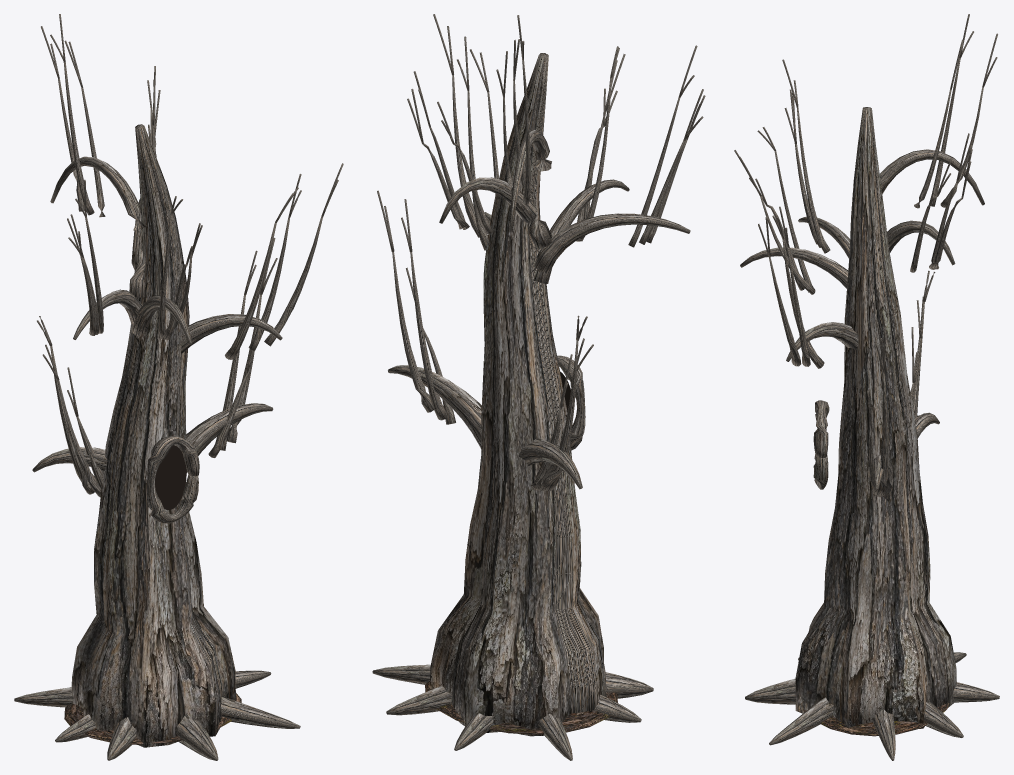
File: hollow-sentinel-v01.glb
The picture shows the model from 3 angles, left to right: view 1: azimuth 30°, elevation 25°; view 2: azimuth 150°, elevation 25°; view 3: azimuth 270°, elevation 25°; orthographic projection. The views are drawn at different scales.
Visible parts, largest first — view 1: deeply furrowed winding trunk, gnarled cavity rim, deep hollow cavity, massive gnarled bough.002, massive gnarled bough, massive gnarled bough.006, radiating buttress root.007, radiating buttress root.006, massive gnarled bough.005, subtle root and soil mound, forked weathered limb.018, massive gnarled bough.001 (+16 smaller); view 2: deeply furrowed winding trunk, massive gnarled bough.004, massive gnarled bough.001, massive gnarled bough, subtle root and soil mound, massive gnarled bough.003, massive gnarled bough.005, massive gnarled bough.002, forked weathered limb.001, radiating buttress root.001, gnarled cavity rim, forked weathered limb.002 (+11 smaller); view 3: deeply furrowed winding trunk, massive gnarled bough.002, gnarled cavity rim, massive gnarled bough.005, radiating buttress root.007, subtle root and soil mound, massive gnarled bough.006, radiating buttress root.006, massive gnarled bough.001, radiating buttress root, forked weathered limb.002, radiating buttress root.001 (+10 smaller).
Boxes of the visible parts, left/top/right/bottom form: deeply furrowed winding trunk: left=71, top=124, right=235, bottom=747; gnarled cavity rim: left=147, top=436, right=199, bottom=523; deep hollow cavity: left=155, top=445, right=186, bottom=509; massive gnarled bough.002: left=50, top=156, right=146, bottom=230; massive gnarled bough: left=186, top=403, right=273, bottom=472; massive gnarled bough.006: left=176, top=314, right=282, bottom=353; radiating buttress root.007: left=221, top=696, right=300, bottom=728; radiating buttress root.006: left=175, top=713, right=218, bottom=760; massive gnarled bough.005: left=131, top=295, right=192, bottom=344; subtle root and soil mound: left=64, top=693, right=241, bottom=744; forked weathered limb.018: left=225, top=222, right=276, bottom=359; massive gnarled bough.001: left=129, top=198, right=147, bottom=297; deeply furrowed winding trunk: left=430, top=53, right=606, bottom=736; massive gnarled bough.004: left=534, top=213, right=690, bottom=273; massive gnarled bough.001: left=439, top=177, right=552, bottom=249; massive gnarled bough: left=388, top=365, right=481, bottom=448; subtle root and soil mound: left=425, top=681, right=617, bottom=734; massive gnarled bough.003: left=518, top=438, right=582, bottom=489; massive gnarled bough.005: left=533, top=179, right=629, bottom=283; massive gnarled bough.002: left=509, top=129, right=551, bottom=231; forked weathered limb.001: left=410, top=252, right=446, bottom=420; radiating buttress root.001: left=386, top=685, right=452, bottom=715; gnarled cavity rim: left=557, top=355, right=585, bottom=450; forked weathered limb.002: left=392, top=252, right=433, bottom=412; deeply furrowed winding trunk: left=795, top=107, right=956, bottom=728; massive gnarled bough.002: left=879, top=149, right=984, bottom=205; gnarled cavity rim: left=813, top=400, right=829, bottom=489; massive gnarled bough.005: left=740, top=247, right=848, bottom=288; radiating buttress root.007: left=769, top=697, right=833, bottom=745; subtle root and soil mound: left=803, top=703, right=949, bottom=736; massive gnarled bough.006: left=786, top=322, right=858, bottom=361; radiating buttress root.006: left=745, top=678, right=795, bottom=704; massive gnarled bough.001: left=887, top=220, right=955, bottom=265; radiating buttress root: left=872, top=709, right=895, bottom=760; forked weathered limb.002: left=872, top=373, right=889, bottom=496; radiating buttress root.001: left=924, top=701, right=963, bottom=737.
Size of the model in its own units: 4.09 by 10.09 by 3.63.
3 materials, 2 textured.
